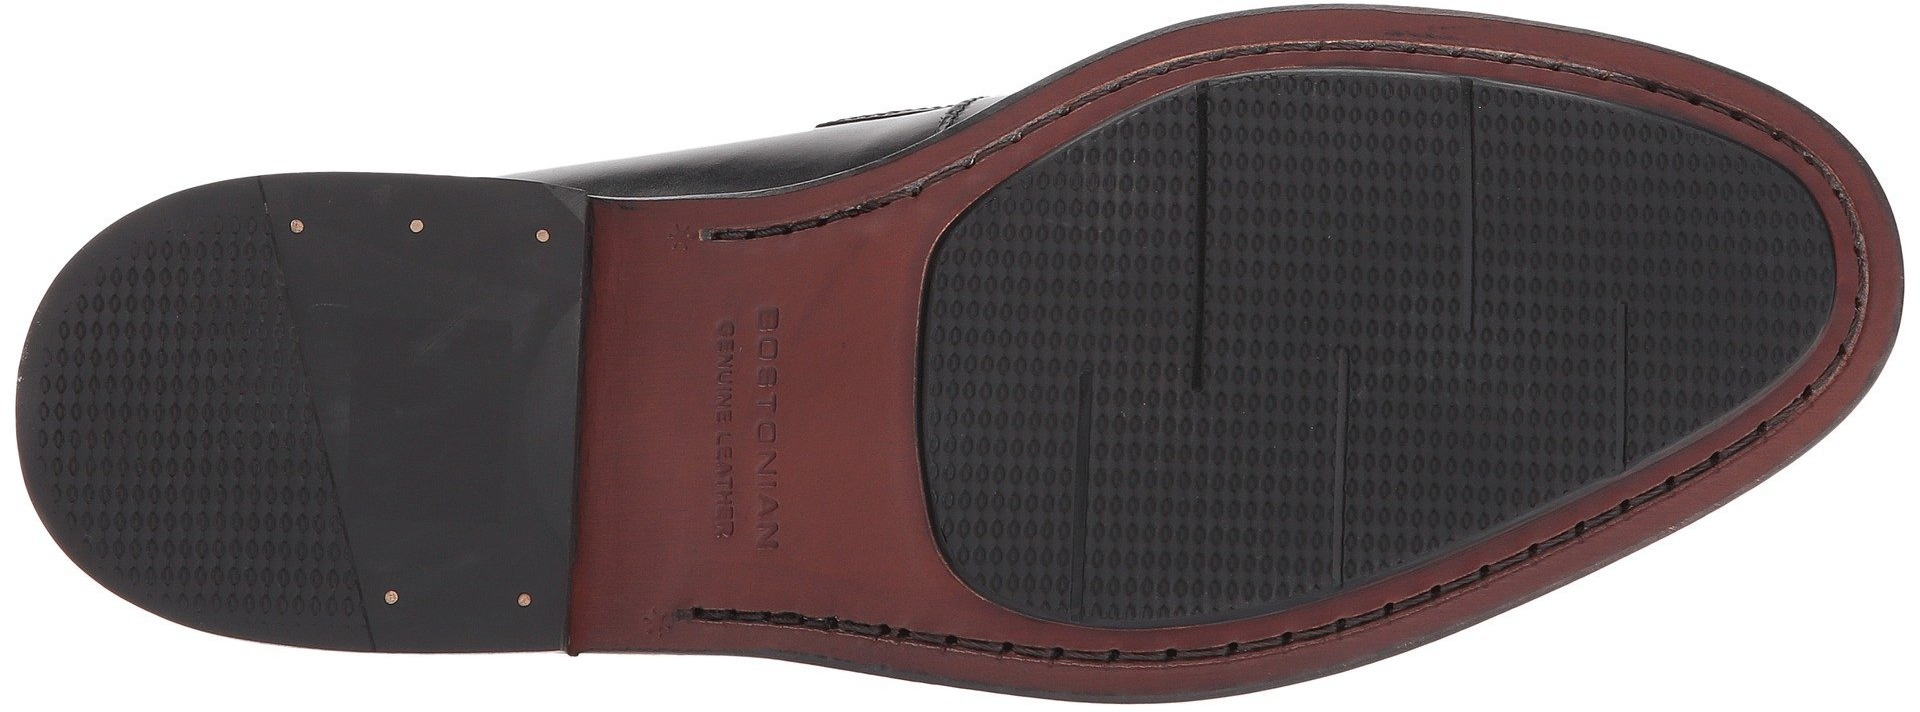circle: (1215, 96, 1469, 347), (1477, 134, 1725, 386), (934, 257, 1191, 490), (53, 315, 299, 528), (1215, 364, 1434, 551)
other: (321, 290, 563, 532)
